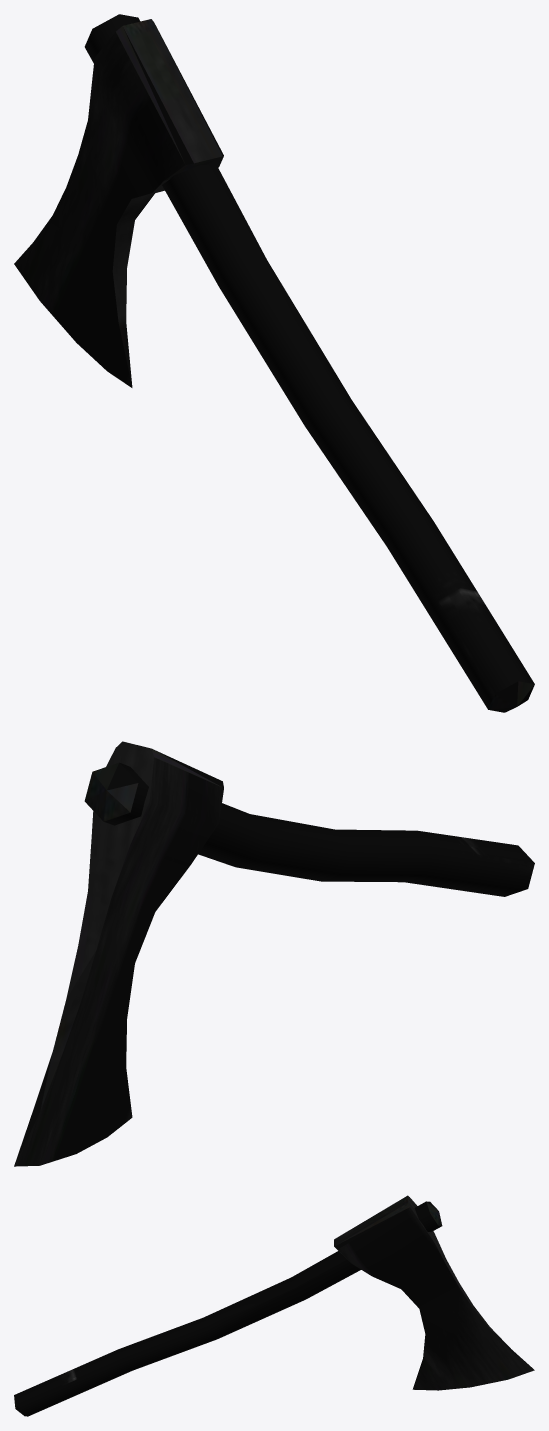
3 views of the same model, one above another, from view 1: azimuth 30°, elevation 25°; view 2: azimuth 150°, elevation 25°; view 3: azimuth 270°, elevation 25° (orthographic). The views are drawn at different scales.
Parts seen in each view (by area): view 1: mesh_0; view 2: mesh_0; view 3: mesh_0.
Boxes of the visible parts, bbox=[...] form: mesh_0: bbox=[14, 14, 534, 712]; mesh_0: bbox=[14, 741, 534, 1166]; mesh_0: bbox=[14, 1195, 534, 1416].
Size of the model in its own units: 1.5 by 11.02 by 23.92.
1 material, 1 textured.
